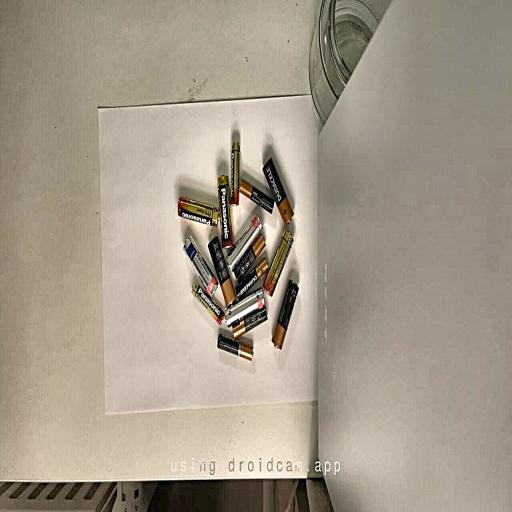DuracellAA: (208, 235, 236, 306), (263, 158, 293, 224), (272, 280, 298, 349)
DuracellAAA: (235, 235, 265, 284), (235, 257, 268, 298), (240, 179, 274, 213), (233, 306, 267, 338), (217, 334, 253, 361)
PanasonicAA: (264, 229, 294, 296), (178, 196, 218, 226), (218, 175, 233, 248)
PanasonicAAA: (191, 282, 223, 325), (230, 141, 240, 206)
RainbowAA: (183, 235, 218, 296), (228, 215, 262, 273), (224, 288, 264, 326)
